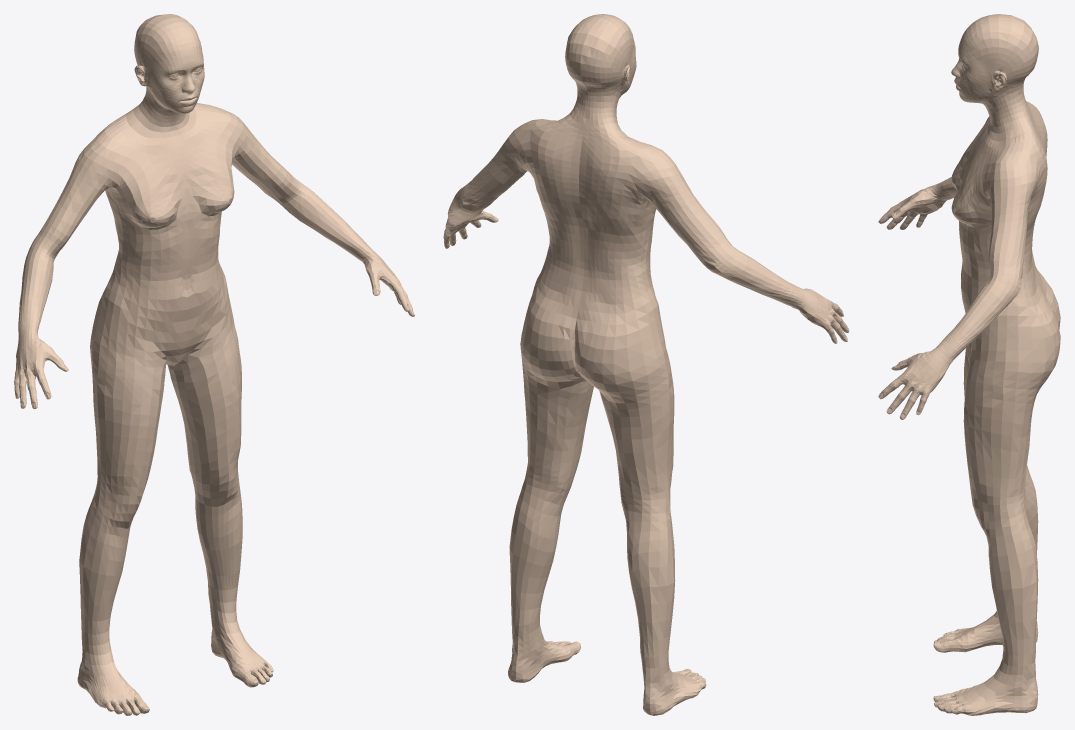
Rendered from female-adult-average-medium.glb.
3 views of the same model, side by side, from view 1: azimuth 30°, elevation 25°; view 2: azimuth 150°, elevation 25°; view 3: azimuth 270°, elevation 25° (orthographic).
Parts seen in each view (by area): view 1: world; view 2: world; view 3: world.
Boxes of the visible parts, bbox=[...] form: world: bbox=[14, 14, 414, 715]; world: bbox=[443, 14, 849, 715]; world: bbox=[878, 14, 1060, 715].
Bounding box in the file's own units: 1.12 × 1.81 × 0.4521.
